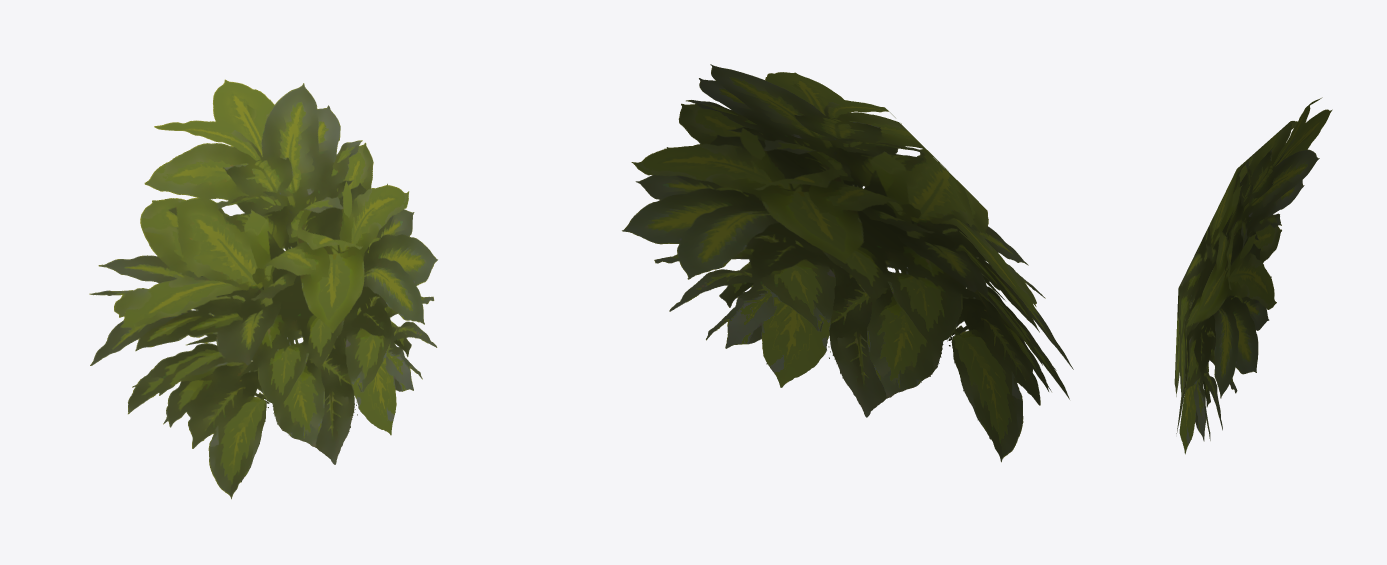
The model's file is SM_Env_Plant.fbx.
3 renders of one model, left to right at view 1: azimuth 30°, elevation 25°; view 2: azimuth 150°, elevation 25°; view 3: azimuth 270°, elevation 25°, orthographic. The views are drawn at different scales.
Visible parts, largest first — view 1: SM_Env_Plant; view 2: SM_Env_Plant; view 3: SM_Env_Plant.
Boxes of the visible parts, x1=… form: SM_Env_Plant: x1=89, y1=79, x2=437, y2=499; SM_Env_Plant: x1=622, y1=64, x2=1073, y2=462; SM_Env_Plant: x1=1174, y1=97, x2=1332, y2=454.
Size of the model in its own units: 0.6043 by 0.5717 by 0.2868.
1 material, 1 textured.
